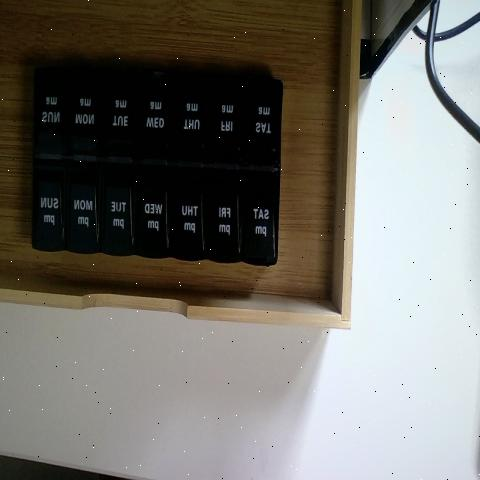FRI-am: (211, 66, 246, 154)
FRI-pm: (207, 177, 242, 262)
MON-am: (73, 60, 107, 152)
MON-pm: (70, 173, 107, 256)
SAT-am: (241, 75, 282, 163)
SAT-pm: (241, 170, 277, 261)
SUN-am: (36, 59, 70, 157)
SUN-pm: (36, 167, 71, 251)
THU-am: (178, 61, 211, 154), (109, 63, 140, 152)
THU-pm: (172, 164, 208, 260)
TUE-pm: (103, 166, 138, 249)
WED-am: (139, 67, 176, 154)
WED-pm: (136, 169, 172, 260)
